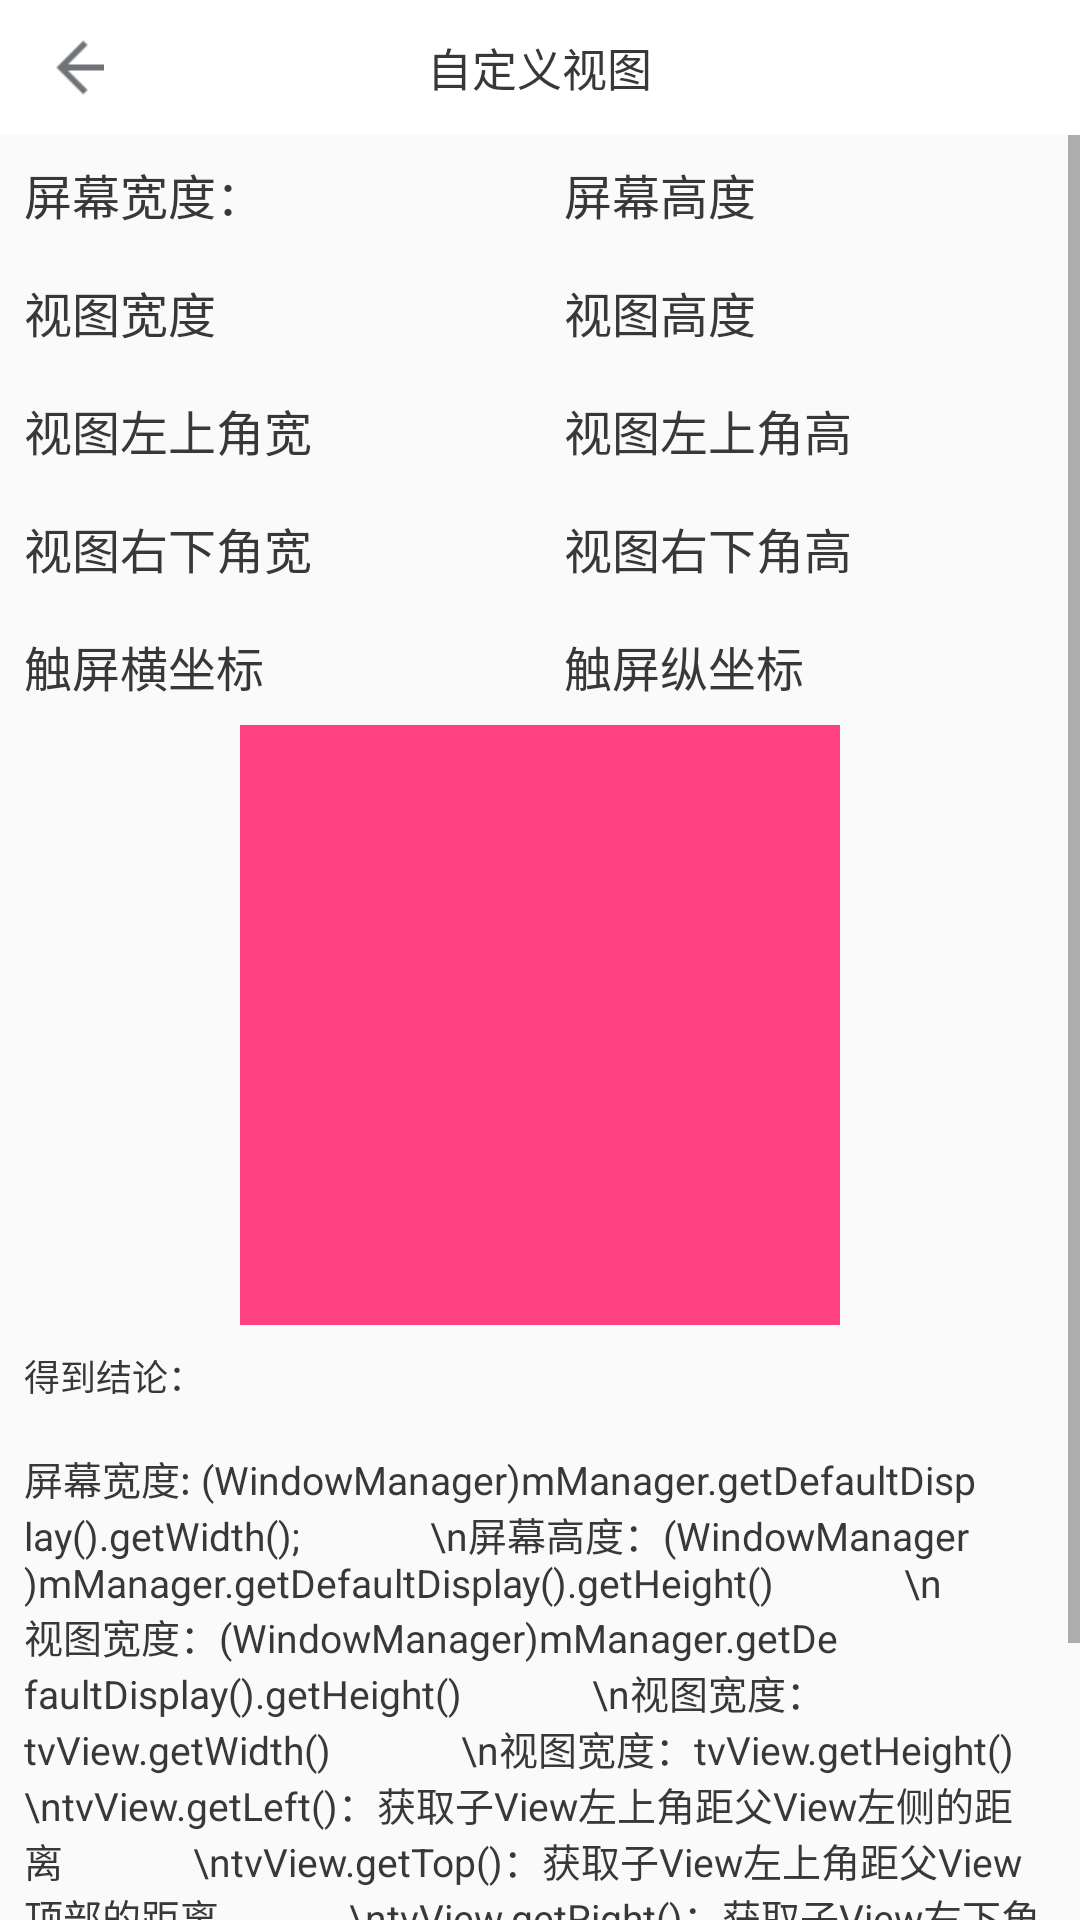

Icon click points for this 1080px×1920px phone screenshot, format [x,y]:
title back: [80,67]
